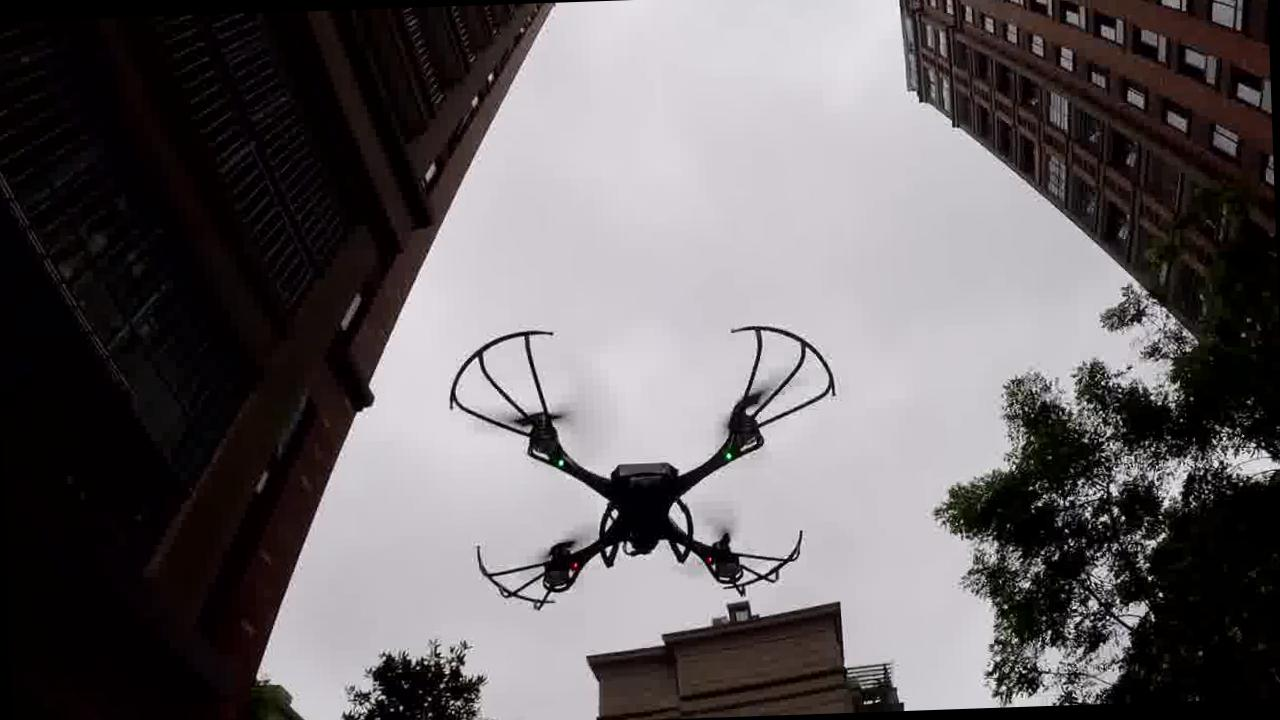drone: (425, 321, 824, 600)
